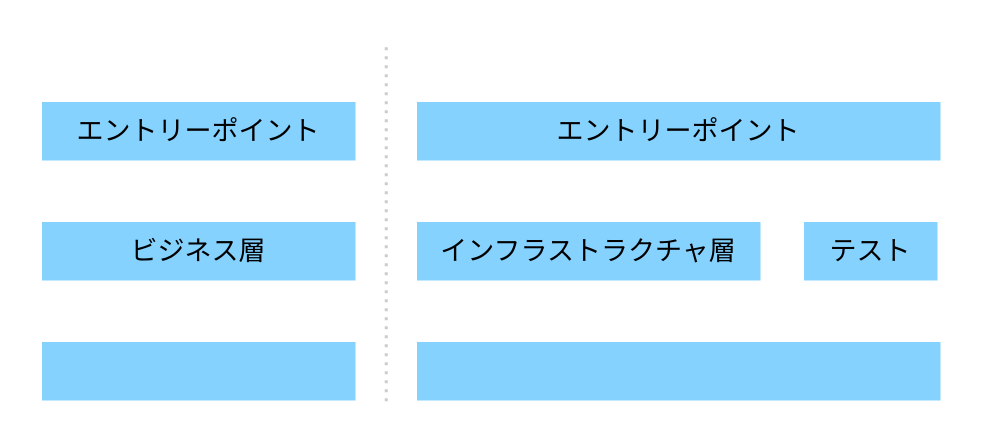
The diagram is 981 pixels wide and 441 high, and some of its shapes have lost their labels. The shapes that lost their labels are listed below. From the top down, each one's box as (x1, y1, x2, y2) in pixels, then its label:
(40, 340, 356, 401): データアクセス層
(415, 340, 941, 401): アプリケーションコア層
